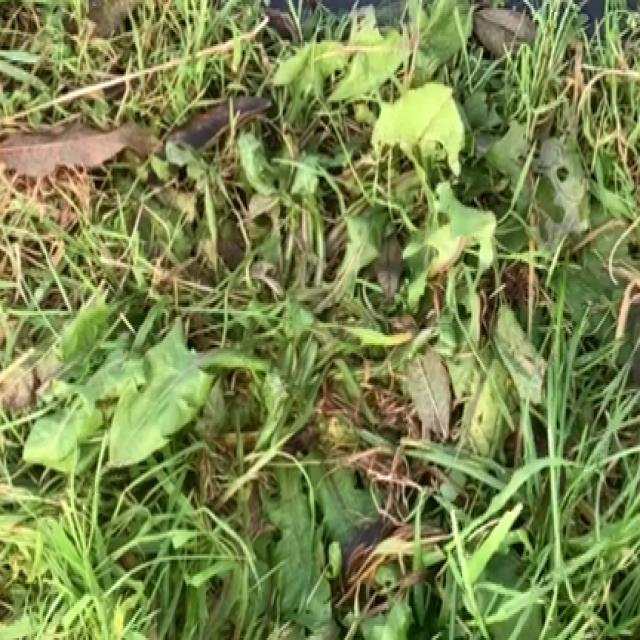organic waste: (261, 60, 575, 297)
